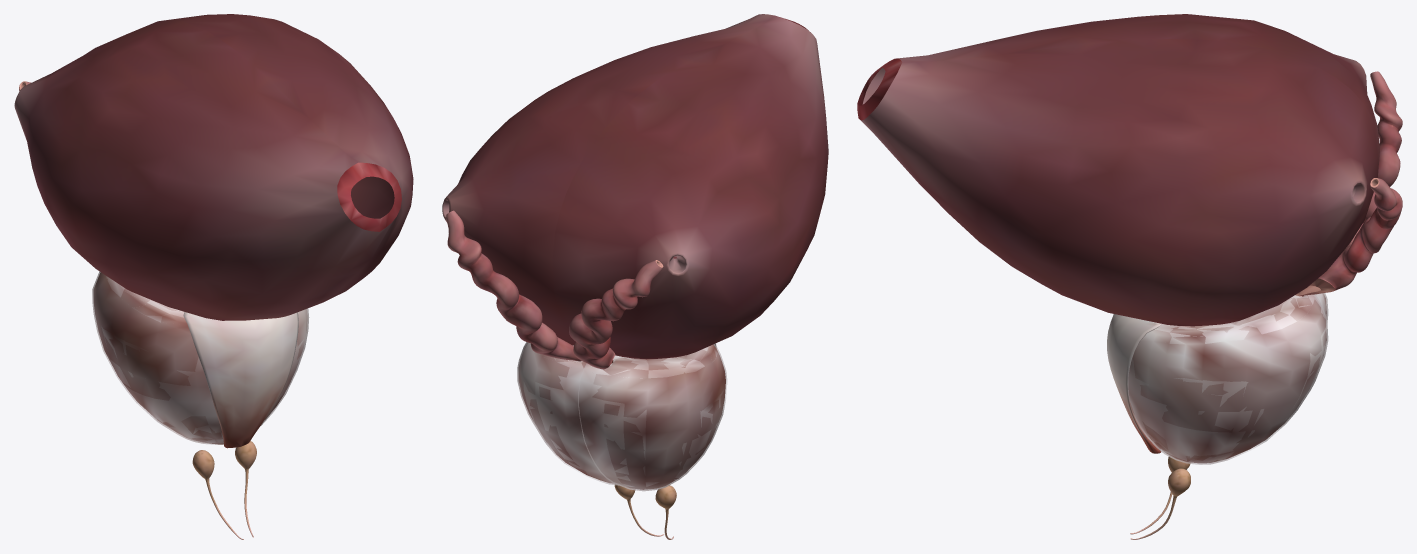
The model's file is prostate_cancer.glb.
3 renders of one model, left to right at view 1: azimuth 30°, elevation 25°; view 2: azimuth 150°, elevation 25°; view 3: azimuth 270°, elevation 25°, orthographic. The views are drawn at different scales.
Visible parts, largest first — view 1: Detrusor Vesicae (Right) [S04959], Detrusor Vesicae (Left) [S04955], Fascia of Prostate (Right) [S04920], Capsule of Prostate (Right) [S04921], Detrusor Apron (Right) [S04948], Detrusor Vesicae (Posterior) [S04964], Detrusor Apron (Left) [S04951], Fascia of Prostate (Left) [S04922], Bulbourethral Gland (Right) [S04950], Bulbourethral Gland (Left) [S04911], Capsule of Prostate (Left) [S04924]; view 2: Detrusor Vesicae (Posterior) [S04964], Detrusor Vesicae (Right) [S04959], Fascia of Prostate (Right) [S04920], Capsule of Prostate (Right) [S04921], Detrusor Vesicae (Left) [S04955], Fascia of Prostate (Left) [S04922], Ampulla of Ductus Deferens (Left) [S04913], Capsule of Prostate (Left) [S04924], Ampulla of Ductus Deferens (Right) [S04947], Bulbourethral Gland (Right) [S04950]; view 3: Detrusor Vesicae (Left) [S04955], Detrusor Vesicae (Posterior) [S04964], Fascia of Prostate (Left) [S04922], Capsule of Prostate (Left) [S04924], Detrusor Vesicae (Right) [S04959], Ampulla of Ductus Deferens (Left) [S04913], Detrusor Apron (Left) [S04951], Ampulla of Ductus Deferens (Right) [S04947], Bulbourethral Gland (Left) [S04911].
Boxes of the visible parts, x1,y1,x2,y2 form: Detrusor Vesicae (Right) [S04959]: (31,31,380,320); Detrusor Vesicae (Left) [S04955]: (207,18,413,311); Fascia of Prostate (Right) [S04920]: (92,271,223,444); Capsule of Prostate (Right) [S04921]: (94,272,223,444); Detrusor Apron (Right) [S04948]: (183,312,259,448); Detrusor Vesicae (Posterior) [S04964]: (14,14,264,167); Detrusor Apron (Left) [S04951]: (241,312,298,446); Fascia of Prostate (Left) [S04922]: (260,308,309,426); Bulbourethral Gland (Right) [S04950]: (192,450,243,539); Bulbourethral Gland (Left) [S04911]: (235,441,256,537); Capsule of Prostate (Left) [S04924]: (265,309,307,419); Detrusor Vesicae (Posterior) [S04964]: (442,103,741,359); Detrusor Vesicae (Right) [S04959]: (628,15,828,348); Fascia of Prostate (Right) [S04920]: (578,344,726,491); Capsule of Prostate (Right) [S04921]: (579,344,725,489); Detrusor Vesicae (Left) [S04955]: (482,14,774,258); Fascia of Prostate (Left) [S04922]: (517,342,622,485); Ampulla of Ductus Deferens (Left) [S04913]: (446,210,581,361); Capsule of Prostate (Left) [S04924]: (519,343,612,483); Ampulla of Ductus Deferens (Right) [S04947]: (569,260,663,369); Bulbourethral Gland (Right) [S04950]: (655,485,676,539); Detrusor Vesicae (Left) [S04955]: (857,39,1277,326); Detrusor Vesicae (Posterior) [S04964]: (1218,20,1379,317); Fascia of Prostate (Left) [S04922]: (1128,294,1328,464); Capsule of Prostate (Left) [S04924]: (1128,295,1326,463); Detrusor Vesicae (Right) [S04959]: (857,14,1250,105); Ampulla of Ductus Deferens (Left) [S04913]: (1298,178,1402,296); Detrusor Apron (Left) [S04951]: (1107,314,1161,453); Ampulla of Ductus Deferens (Right) [S04947]: (1343,71,1402,251); Bulbourethral Gland (Left) [S04911]: (1130,468,1190,539).
Bounding box in the file's own units: 1.89 × 2.8 × 2.78.
